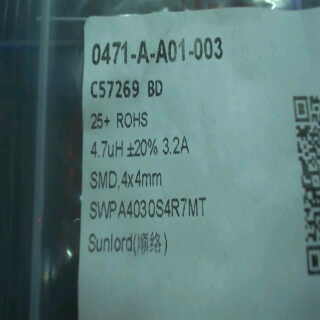4.7uH: (86, 135, 126, 162)
